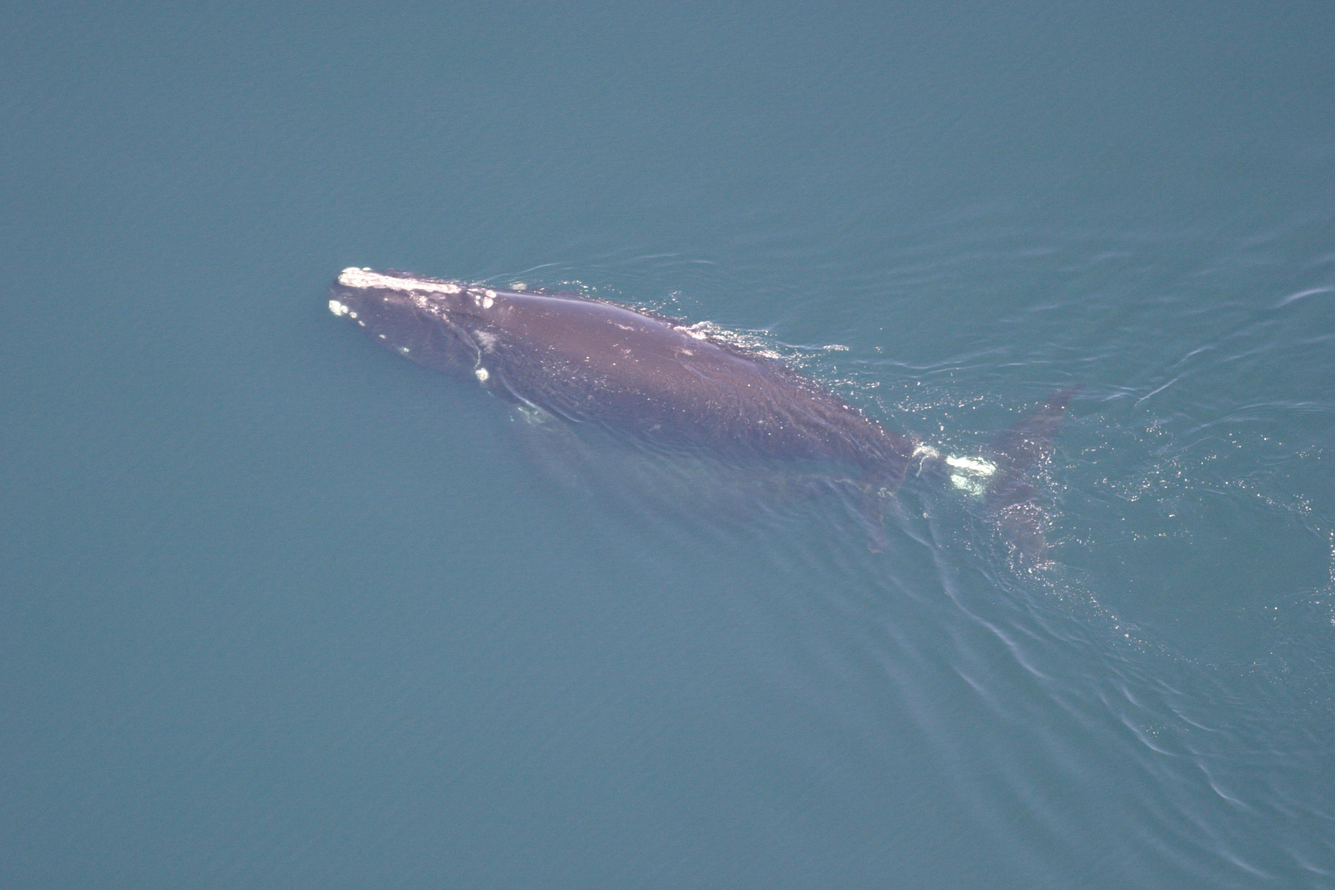whale: (321, 257, 1091, 609)
